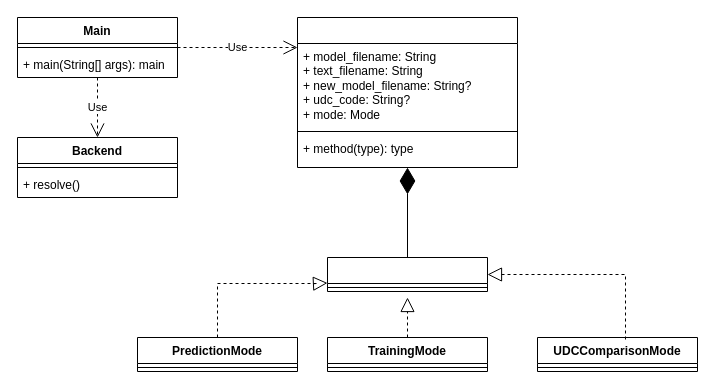
This 715x389 diagram has some shape labels left out. The box of each missing label's shape, as (x1, y1, x2, y2) in pixels:
Mode: (326, 256, 488, 292)
UDCArgParser: (296, 16, 518, 168)
